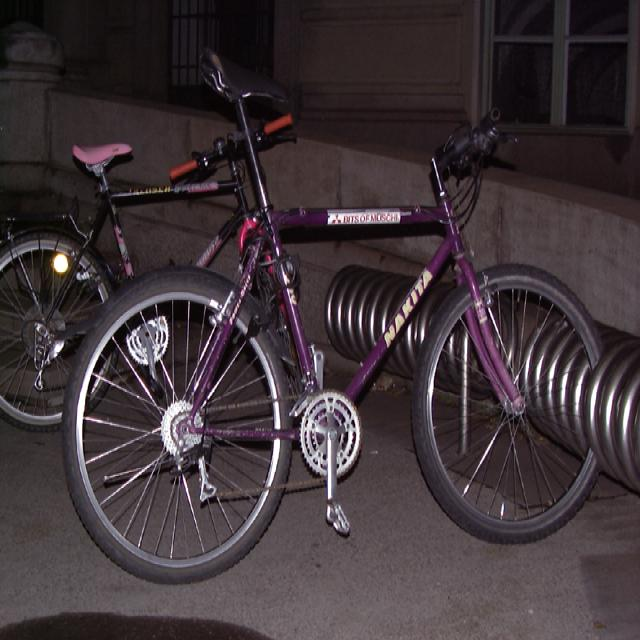bicycle: (61, 47, 603, 584)
